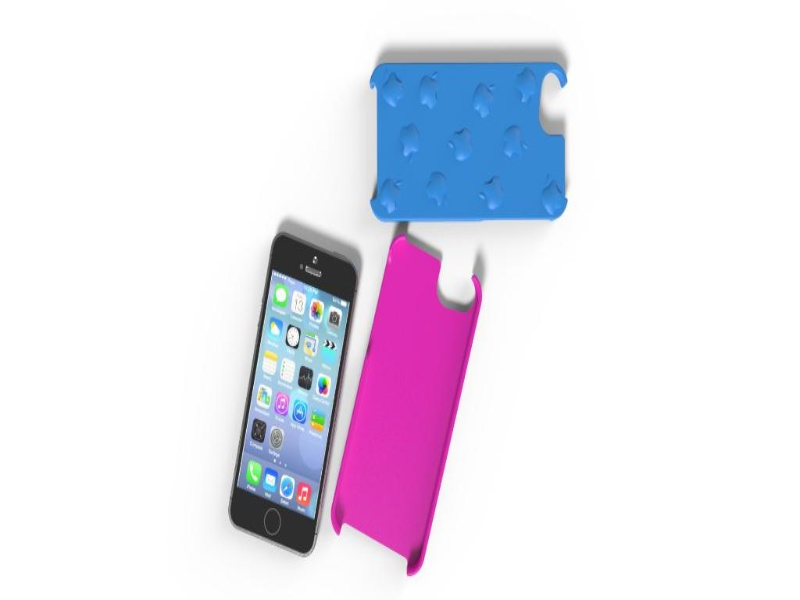cellphone: (219, 217, 364, 573)
